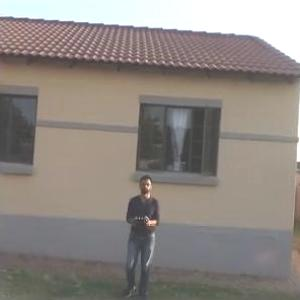follow: (117, 167, 158, 299)
